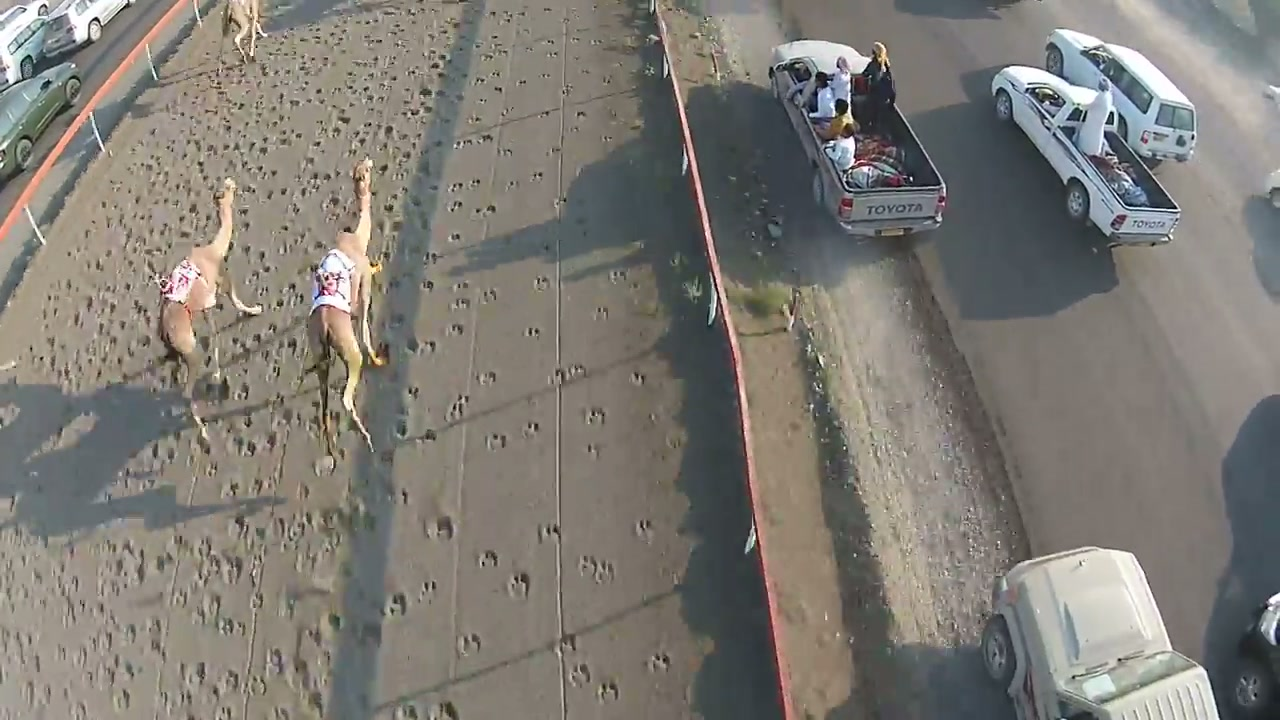animal_foot_print: (108, 0, 681, 669), (391, 701, 461, 719), (579, 555, 614, 583), (424, 515, 456, 540), (548, 363, 586, 384), (426, 701, 461, 719), (446, 395, 469, 421), (383, 592, 407, 616), (507, 573, 530, 598), (596, 679, 619, 703), (458, 633, 481, 656), (568, 663, 591, 686), (405, 337, 435, 354), (647, 651, 669, 672), (557, 633, 577, 656), (393, 416, 411, 441), (634, 519, 653, 542), (418, 580, 437, 602), (537, 524, 560, 542), (584, 407, 605, 425), (485, 433, 507, 450), (477, 550, 498, 567), (476, 370, 496, 385), (523, 421, 540, 438), (481, 288, 499, 304), (450, 297, 470, 310), (446, 323, 464, 336), (584, 443, 599, 458), (630, 371, 645, 386), (453, 279, 469, 292), (593, 306, 608, 319), (525, 327, 541, 338)
